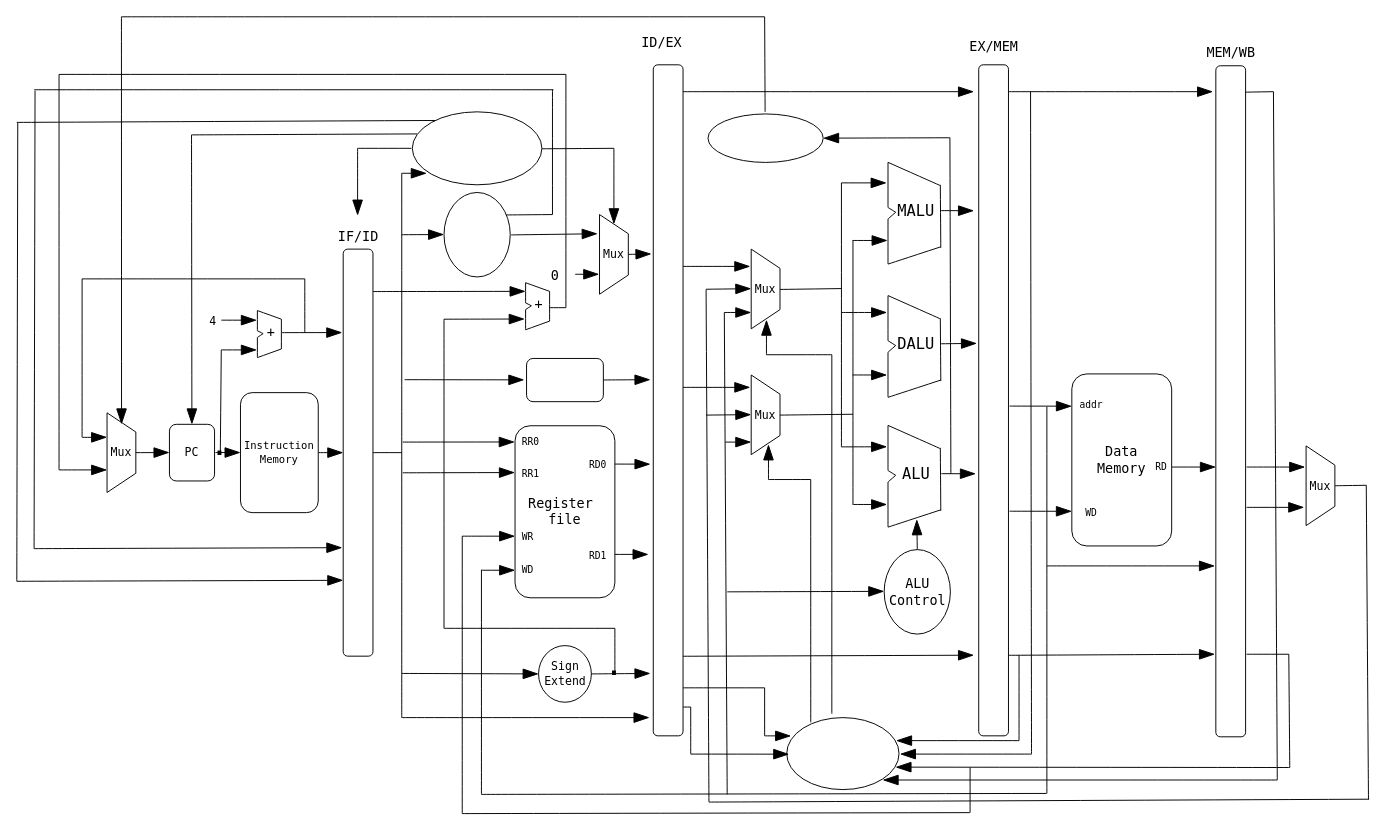
This 1386x831 diagram has some shape labels left out. The centre of each missing label's shape, as x and y in pixels:
Control: (x=476, y=234)
CSR: (x=564, y=380)
Forwarding unit: (x=842, y=753)
Hazard detection: (x=476, y=148)
PC control: (x=765, y=137)
